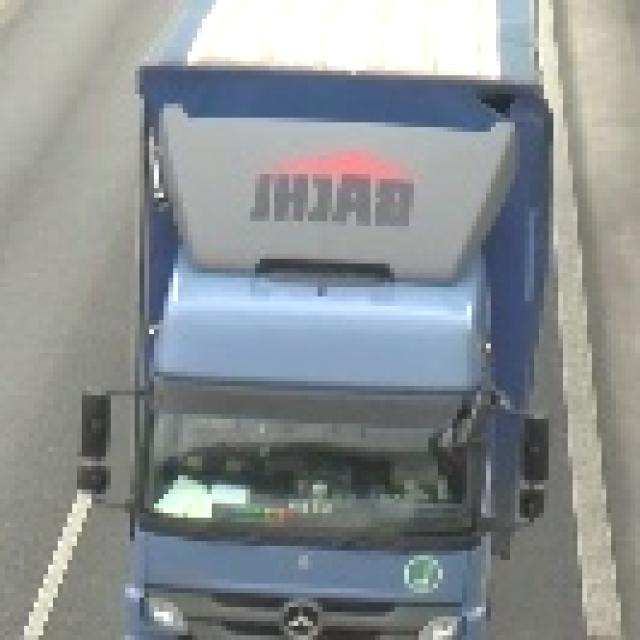TRUCK: (125, 0, 495, 640)
